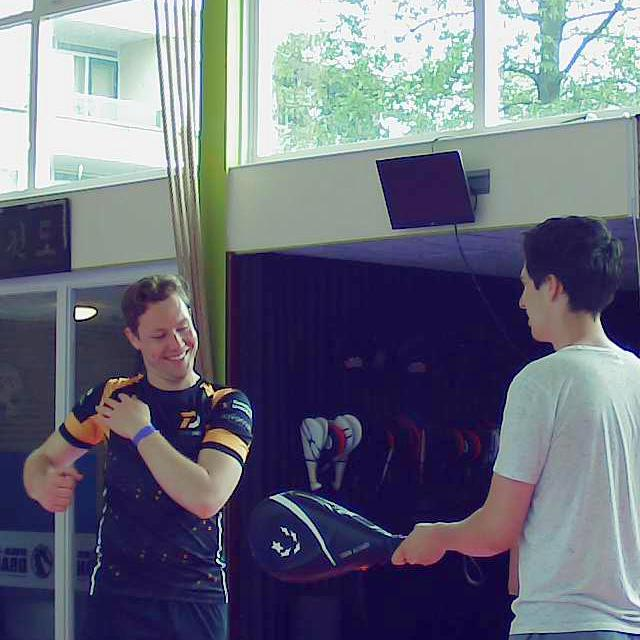paddle: (243, 488, 411, 585)
